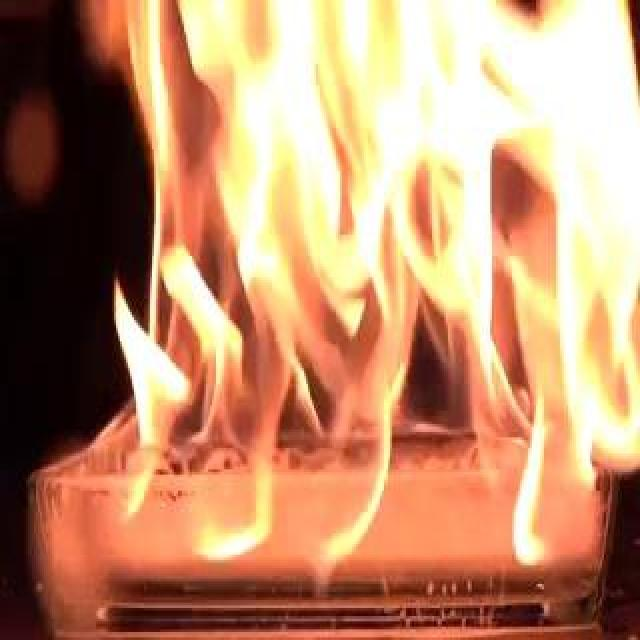Fire: (90, 3, 630, 549)
